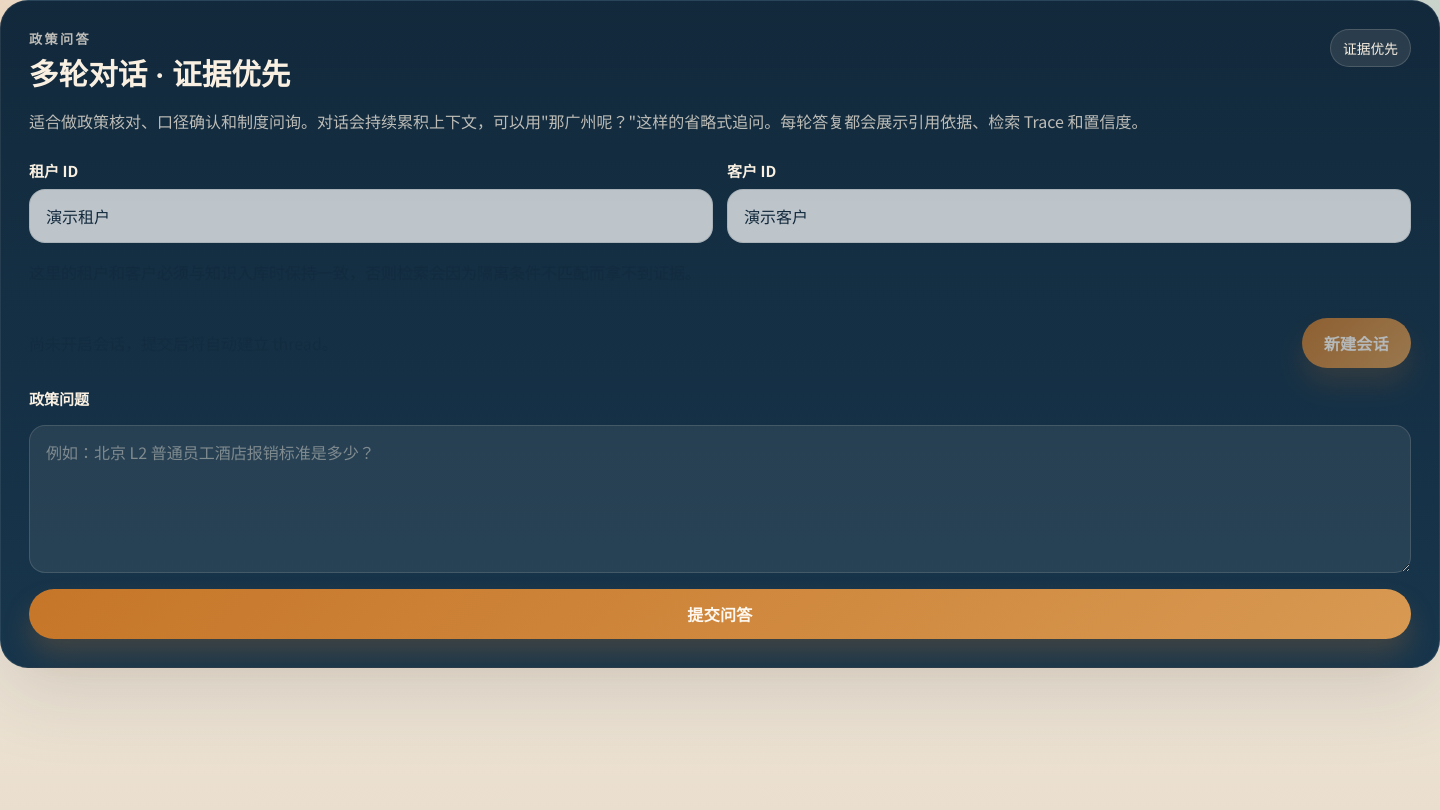
it: 新建会话 clears the conversation and drops the thread id
This screenshot has width=1440, height=810.
Step 1. Type "first" into the text box labelled "政策问题" → (720, 499), box [29, 425, 1411, 573]
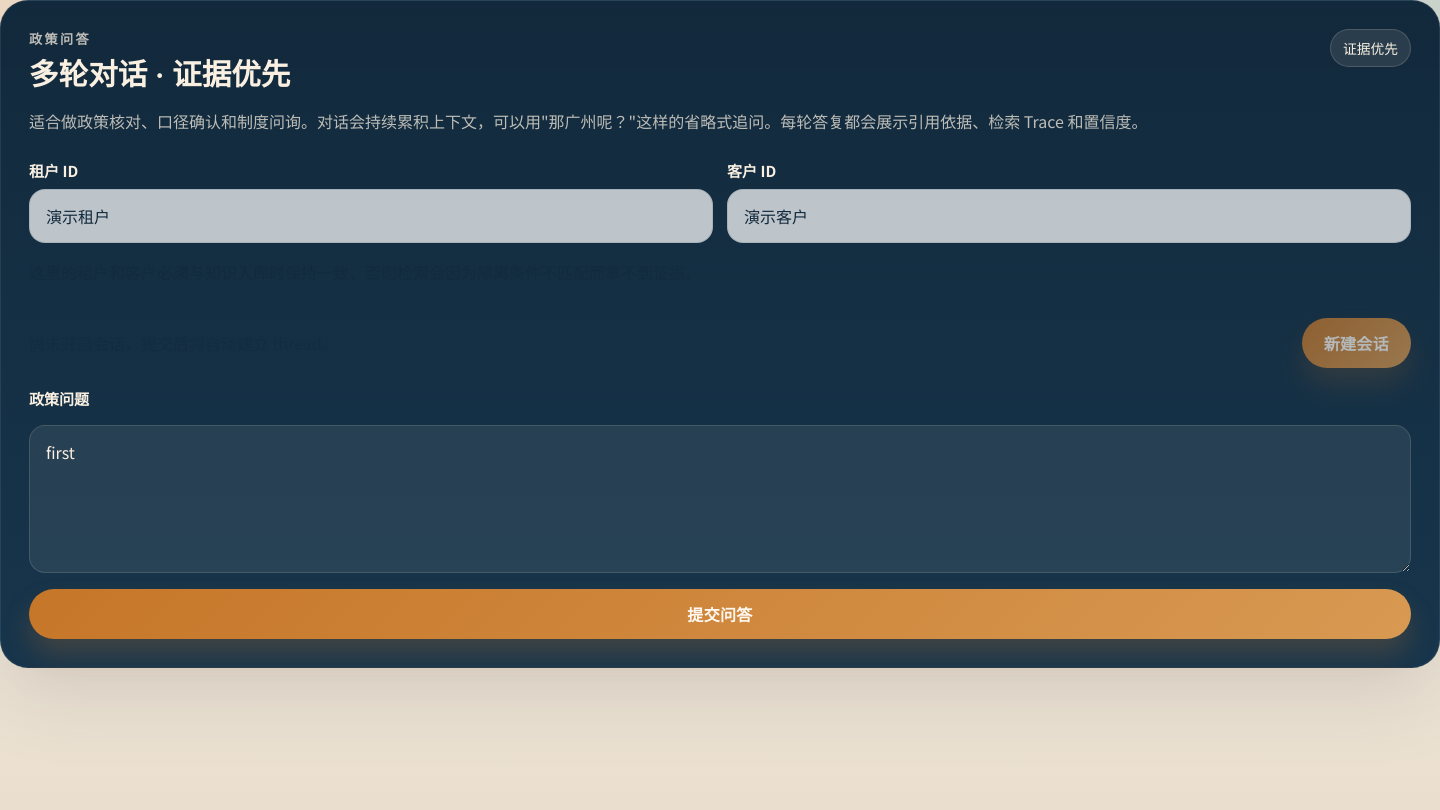
Step 2. Click the button "提交问答" → (720, 614), box [29, 589, 1411, 639]
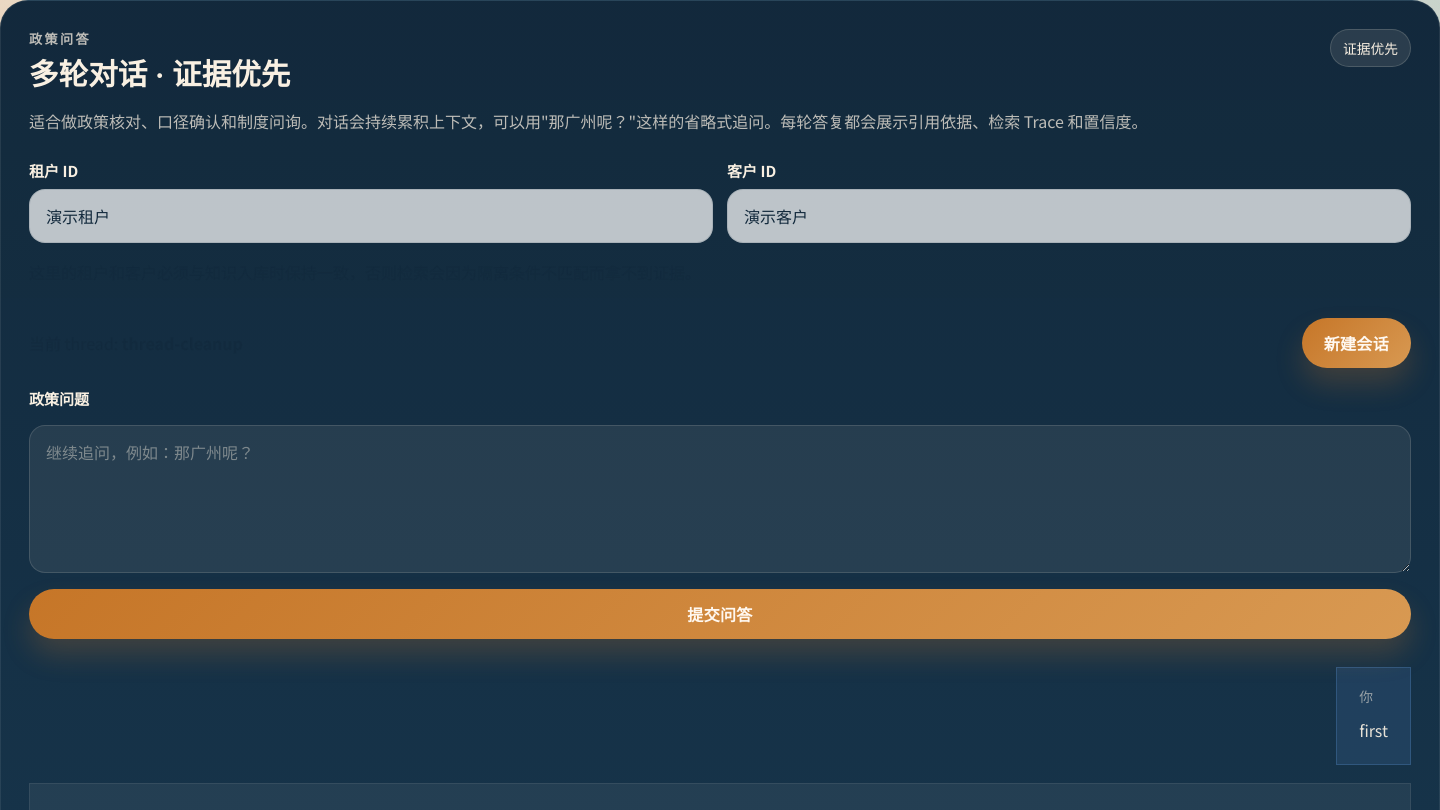
Step 3. Click the button "新建会话" → (1356, 343), box [1302, 318, 1411, 368]
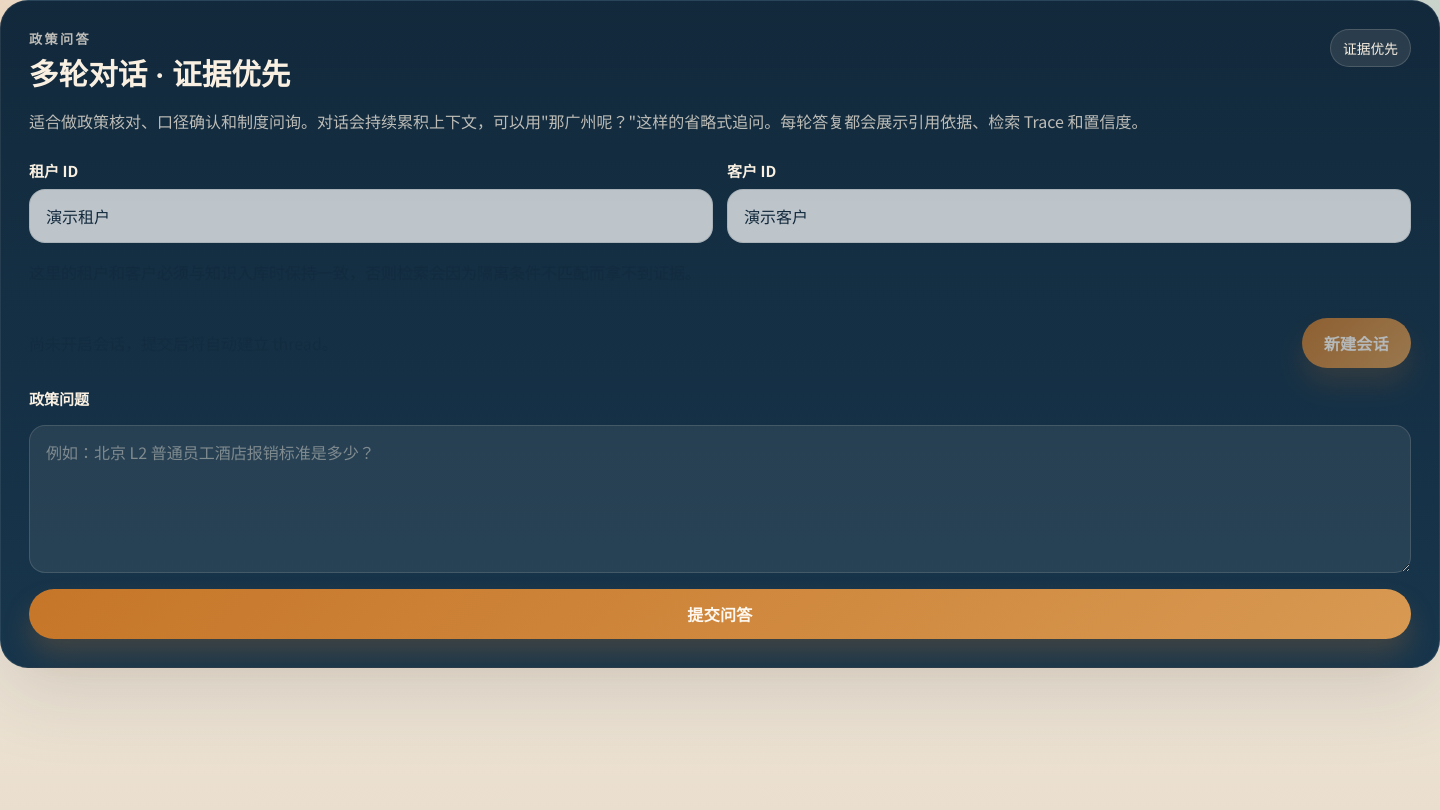
Check: the text "first" is gone
